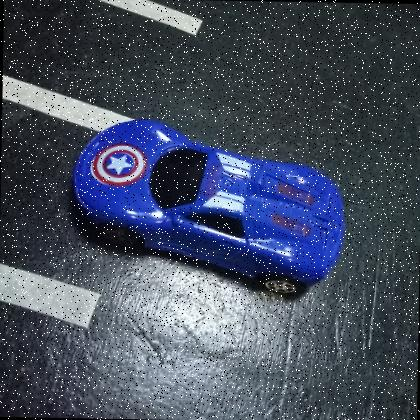Car: (69, 114, 348, 293)
